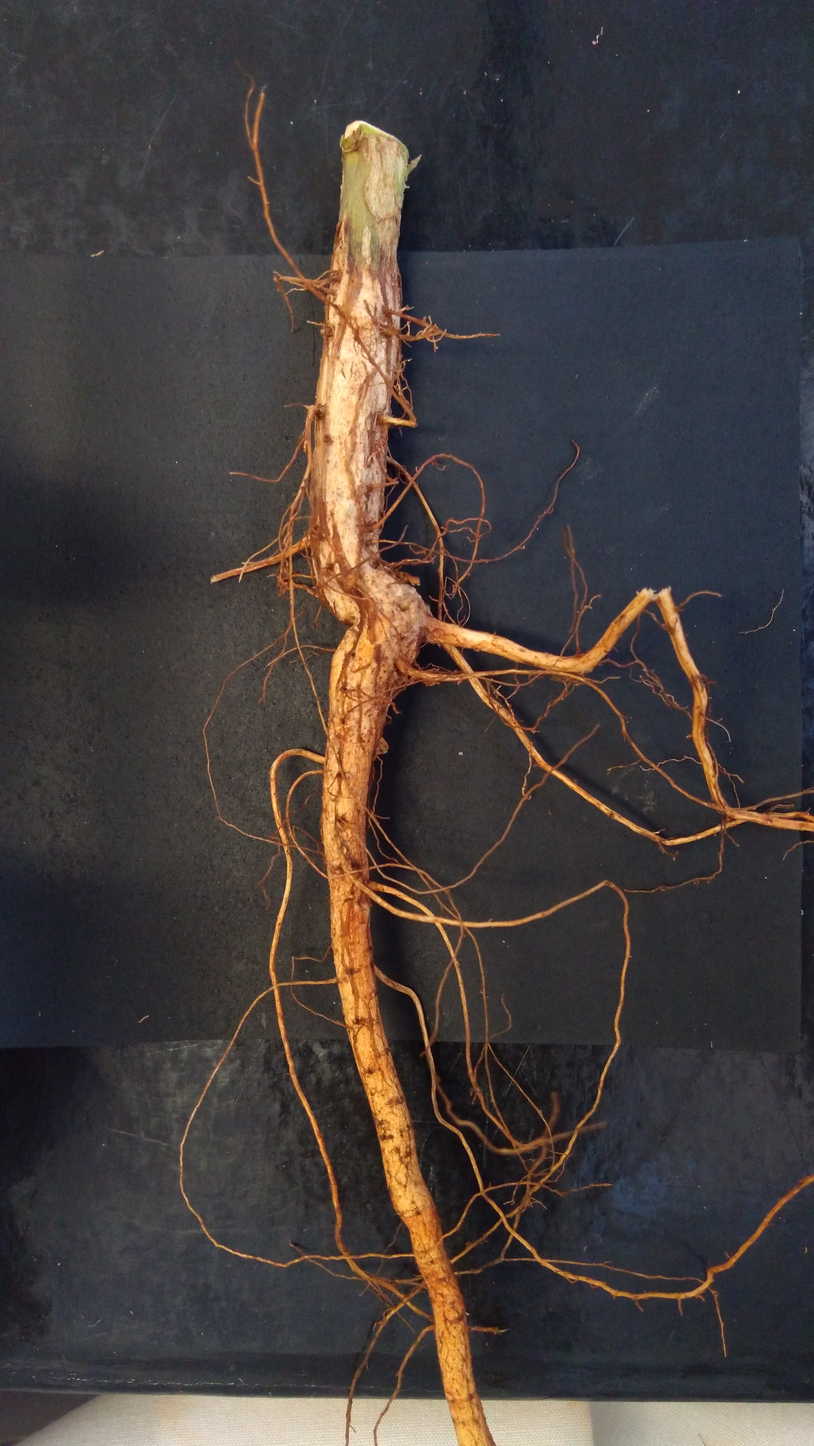nodule: (371, 734, 389, 760), (397, 570, 420, 585), (310, 403, 326, 420), (383, 561, 400, 575), (320, 323, 335, 336), (329, 270, 342, 282)
